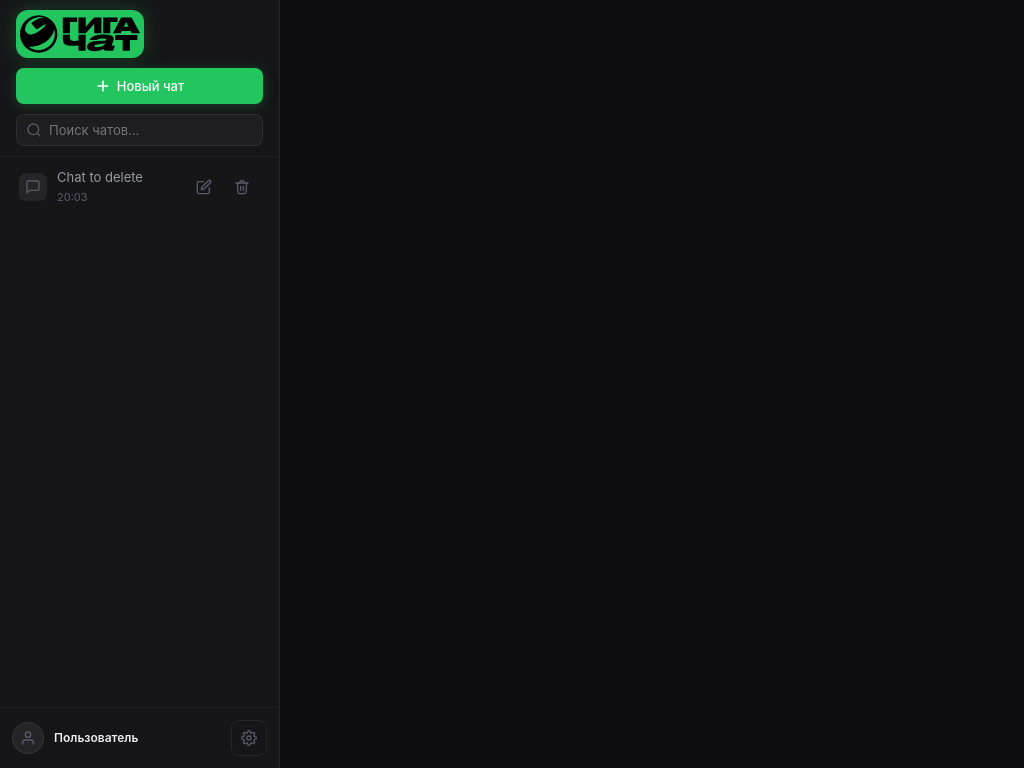
Test: Sidebar — удаление › чат удаляется после того, как пользователь подтвердил удаление
The width and height of the screenshot is (1024, 768).
Click the button titled "Удалить": [242, 187] box left=224, top=169, right=260, bottom=205
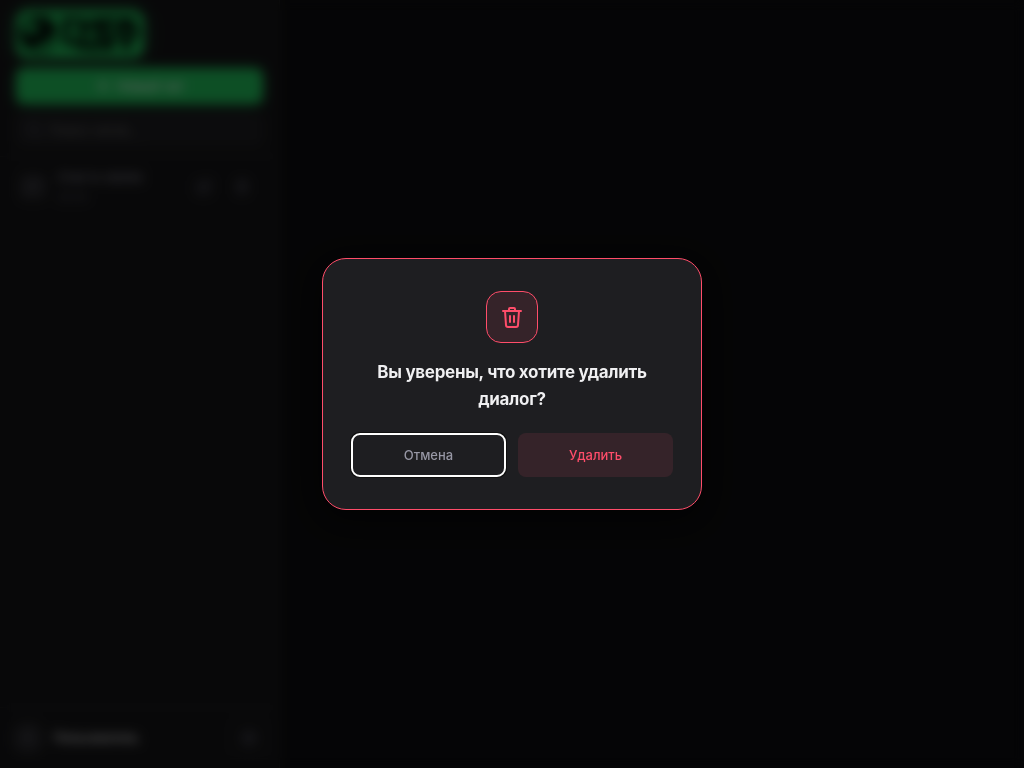
Click the button "Удалить": [596, 455] box left=518, top=433, right=673, bottom=477
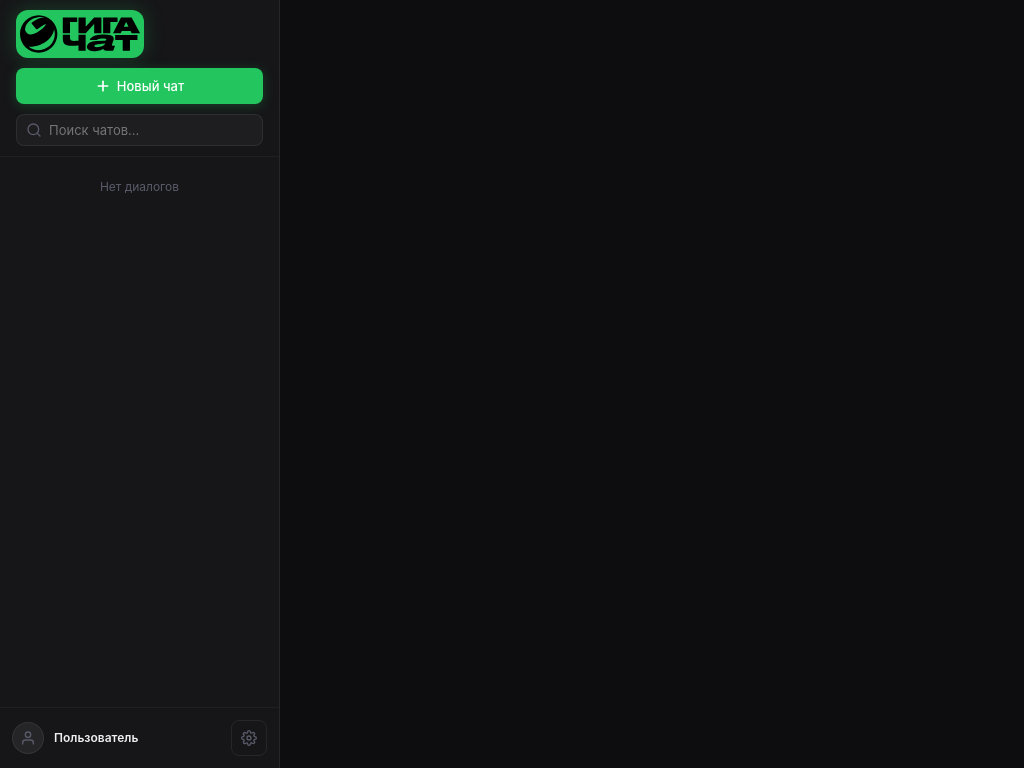
Expected: the text "Chat to delete" is gone
Expected: the dialog is gone
